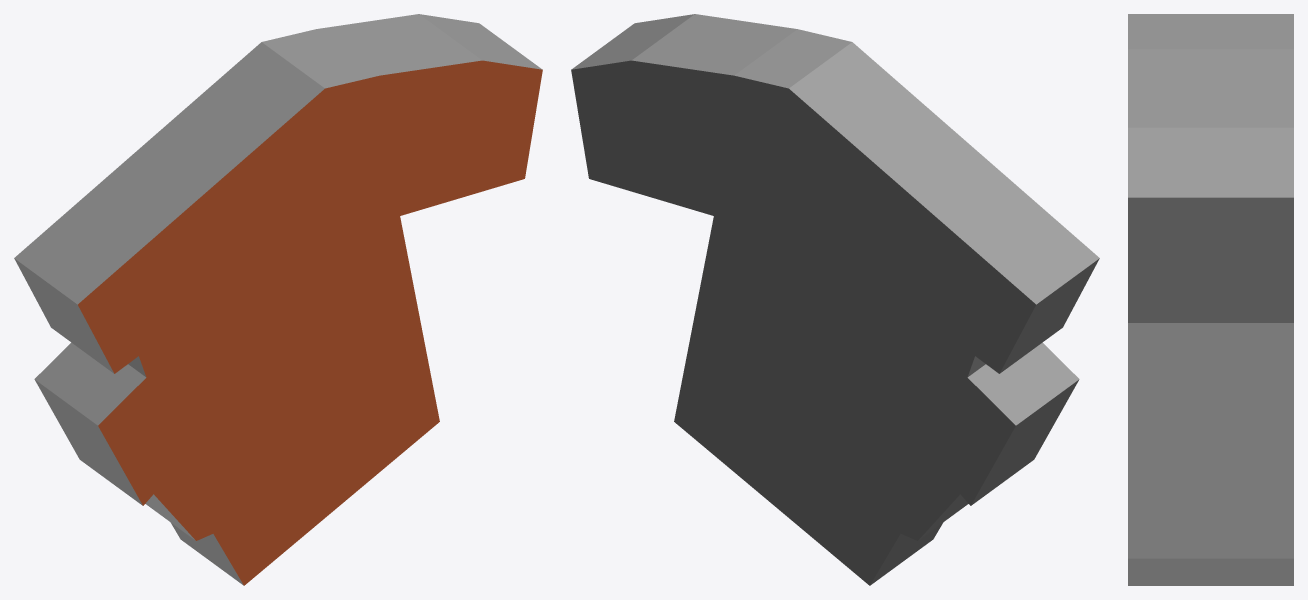
The model's file is construction_1945_assumed_A_Casa_h6m.obj.
3 renders of one model, left to right at view 1: azimuth 30°, elevation 25°; view 2: azimuth 150°, elevation 25°; view 3: azimuth 270°, elevation 25°, orthographic. The views are drawn at different scales.
Visible parts, largest first — view 1: construction_1945_assumed_A_Casa; view 2: construction_1945_assumed_A_Casa; view 3: construction_1945_assumed_A_Casa.
Part boxes in pixels (x1,y1,x2,y2): construction_1945_assumed_A_Casa: (14,14,542,585); construction_1945_assumed_A_Casa: (571,14,1099,585); construction_1945_assumed_A_Casa: (1128,14,1293,585).
Size of the model in its own units: 25.36 by 24.88 by 6.
